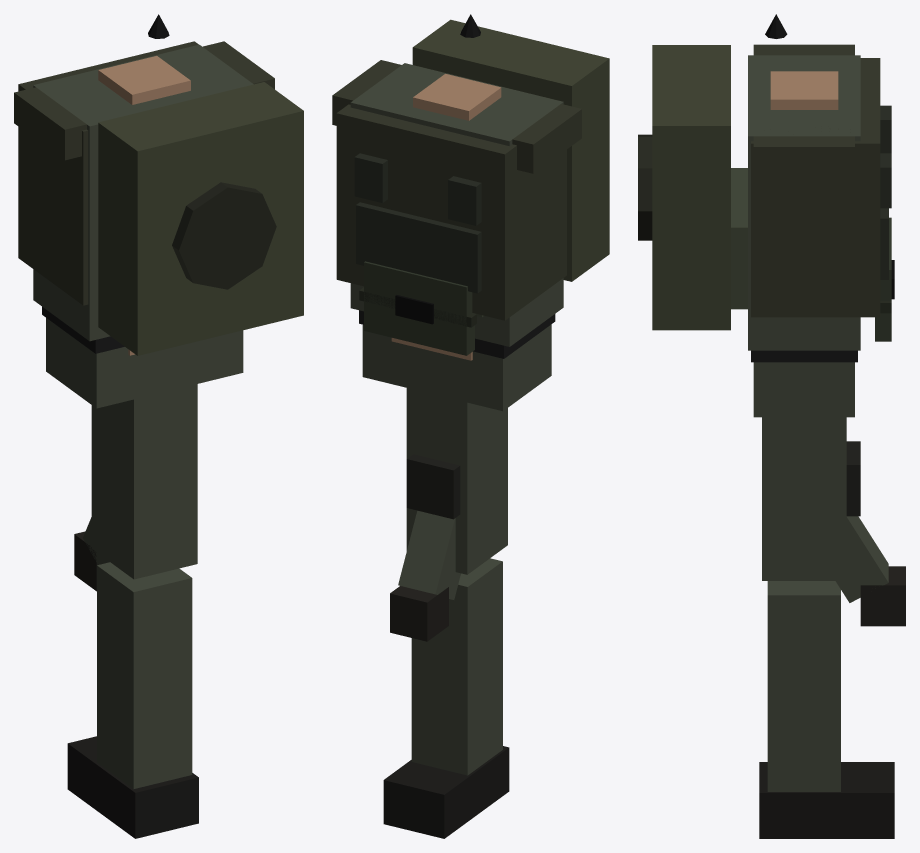
Rendered from operator_fuze.glb.
The picture shows the model from 3 angles, left to right: view 1: azimuth 30°, elevation 25°; view 2: azimuth 150°, elevation 25°; view 3: azimuth 270°, elevation 25°; orthographic projection. The views are drawn at different scales.
Parts seen in each view (by area): view 1: torso, legL, hips, armL; view 2: torso, legL, hips, head, armL; view 3: torso, legL, hips, armL, head.
Boxes of the visible parts, x1,y1,x2,y2 form: torso: [14, 14, 303, 355]; legL: [67, 384, 198, 838]; hips: [42, 307, 243, 408]; armL: [74, 517, 109, 591]; torso: [332, 14, 609, 346]; legL: [383, 388, 509, 838]; hips: [359, 310, 555, 411]; head: [359, 261, 483, 360]; armL: [390, 510, 460, 641]; torso: [638, 14, 891, 350]; legL: [759, 417, 894, 838]; hips: [751, 350, 857, 417]; armL: [835, 516, 905, 626]; head: [731, 168, 894, 341].
Bounding box in the file's own units: 0.43 × 1.58 × 0.475.
